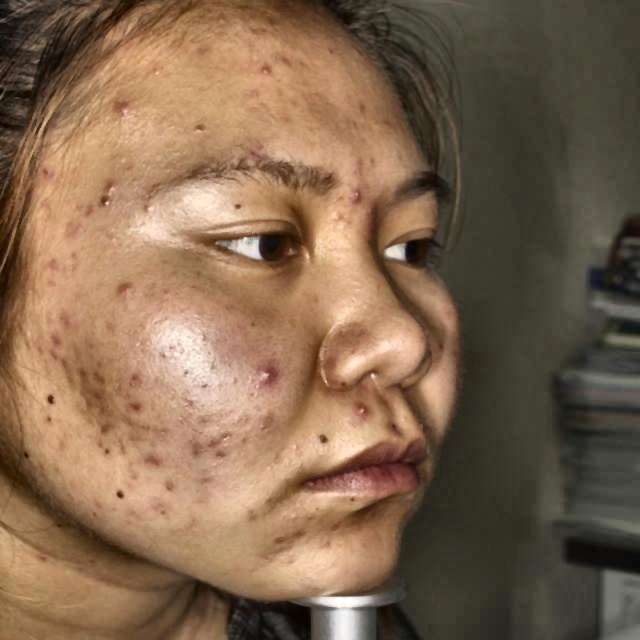papule: (58, 210, 86, 247), (103, 165, 139, 192), (257, 53, 284, 89), (108, 279, 144, 305), (117, 361, 145, 390), (158, 474, 185, 504), (67, 363, 93, 394), (243, 144, 270, 172), (37, 157, 63, 185), (41, 254, 68, 279), (82, 376, 106, 404), (323, 206, 344, 237), (280, 54, 312, 74), (94, 363, 124, 384), (112, 96, 138, 120), (289, 516, 312, 543), (140, 450, 170, 470), (339, 402, 369, 422), (198, 438, 230, 455), (252, 360, 270, 390), (360, 210, 376, 242), (54, 358, 77, 380), (314, 535, 334, 560), (128, 391, 146, 418), (54, 307, 79, 326), (268, 525, 287, 550), (192, 34, 212, 56), (48, 334, 70, 352), (347, 188, 363, 210), (98, 417, 112, 441), (88, 210, 100, 218)
